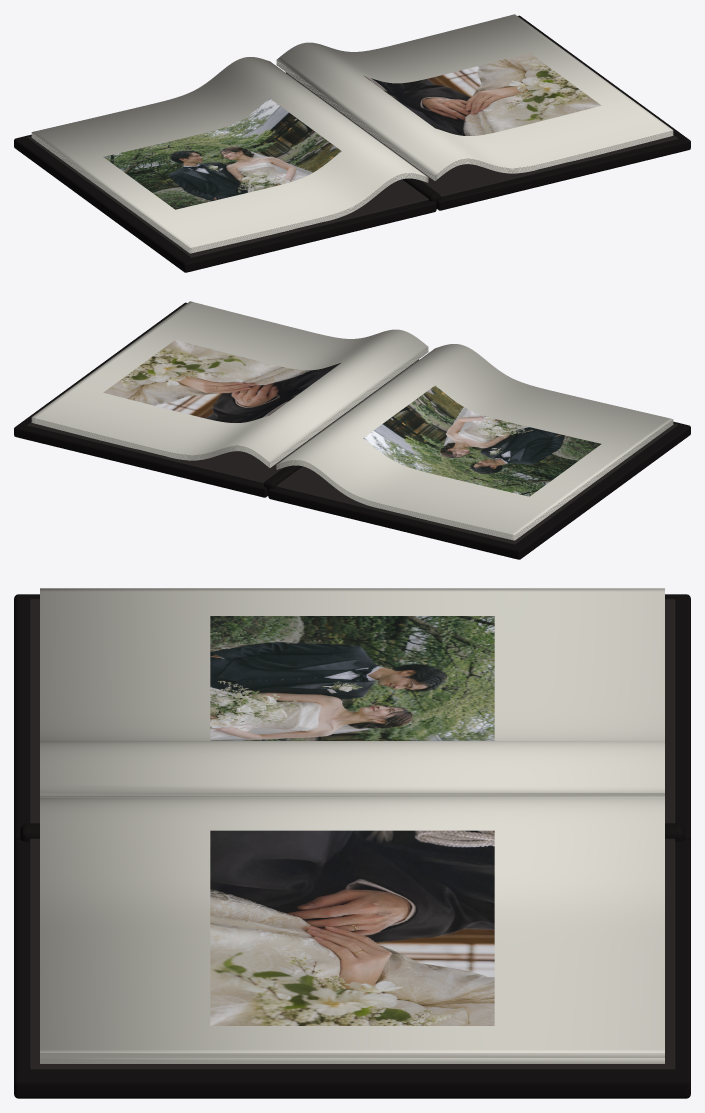
Rendered from album-open.glb.
3 views of the same model, one above another, from view 1: azimuth 30°, elevation 25°; view 2: azimuth 150°, elevation 25°; view 3: azimuth 270°, elevation 25° (orthographic). The views are drawn at different scales.
Parts seen in each view (by area): view 1: OPEN Left leaf 12, OPEN Right leaf 12, PHOTO_Left | 写真を差し替え, PHOTO_Right | 写真を差し替え, OPEN Left hard cover, OPEN Right hard cover, OPEN Left inner liner, OPEN Right inner liner, OPEN Right leaf 10, OPEN Right leaf 08, OPEN Left leaf 02, OPEN Left leaf 04 (+18 smaller); view 2: OPEN Left leaf 12, OPEN Right leaf 12, PHOTO_Left | 写真を差し替え, PHOTO_Right | 写真を差し替え, OPEN Left hard cover, OPEN Right hard cover, OPEN Left inner liner, OPEN Right inner liner, OPEN Right leaf 10, OPEN Right leaf 08, OPEN Left leaf 02, OPEN Left leaf 04 (+18 smaller); view 3: OPEN Right leaf 12, OPEN Left leaf 12, PHOTO_Right | 写真を差し替え, PHOTO_Left | 写真を差し替え, OPEN Right hard cover, OPEN Right inner liner, OPEN Left hard cover, OPEN Left inner liner, OPEN Left leaf 10, OPEN Left leaf 11, OPEN Right leaf 02, OPEN Right leaf 03 (+8 smaller).
Boxes of the visible parts, box(x1,y1,x2,y2) form: OPEN Left leaf 12: box(31, 57, 428, 248); OPEN Right leaf 12: box(276, 14, 673, 175); PHOTO_Left | 写真を差し替え: box(103, 98, 341, 209); PHOTO_Right | 写真を差し替え: box(363, 53, 601, 135); OPEN Left hard cover: box(14, 134, 436, 272); OPEN Right hard cover: box(286, 15, 690, 210); OPEN Left inner liner: box(27, 136, 428, 258); OPEN Right inner liner: box(287, 73, 677, 197); OPEN Right leaf 10: box(276, 60, 673, 176); OPEN Right leaf 08: box(276, 61, 673, 177); OPEN Left leaf 02: box(32, 137, 427, 253); OPEN Left leaf 04: box(32, 136, 428, 252); OPEN Left leaf 12: box(276, 344, 673, 535); OPEN Right leaf 12: box(31, 301, 428, 462); PHOTO_Left | 写真を差し替え: box(363, 385, 601, 496); PHOTO_Right | 写真を差し替え: box(103, 340, 341, 422); OPEN Left hard cover: box(268, 421, 690, 559); OPEN Right hard cover: box(14, 302, 418, 497); OPEN Left inner liner: box(276, 423, 677, 545); OPEN Right inner liner: box(27, 360, 417, 484); OPEN Right leaf 10: box(31, 347, 428, 463); OPEN Right leaf 08: box(31, 348, 428, 464); OPEN Left leaf 02: box(277, 424, 672, 540); OPEN Left leaf 04: box(276, 423, 672, 539); OPEN Right leaf 12: box(40, 797, 664, 1053); OPEN Left leaf 12: box(40, 588, 664, 793); PHOTO_Right | 写真を差し替え: box(210, 830, 494, 1025); PHOTO_Left | 写真を差し替え: box(210, 616, 494, 740); OPEN Right hard cover: box(14, 839, 690, 1098); OPEN Right inner liner: box(29, 838, 675, 1070); OPEN Left hard cover: box(14, 594, 690, 842); OPEN Left inner liner: box(29, 599, 675, 823); OPEN Left leaf 10: box(40, 794, 664, 795); OPEN Left leaf 11: box(40, 793, 664, 794); OPEN Right leaf 02: box(40, 1062, 664, 1063); OPEN Right leaf 03: box(40, 1061, 664, 1062).
Bounding box in the file's own units: 5.54 × 0.4258 × 3.25.
5 materials, 2 textured.
